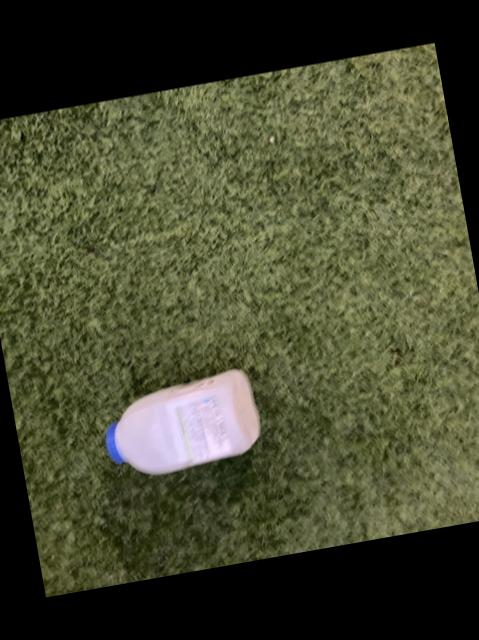plastic: (102, 369, 255, 473)
